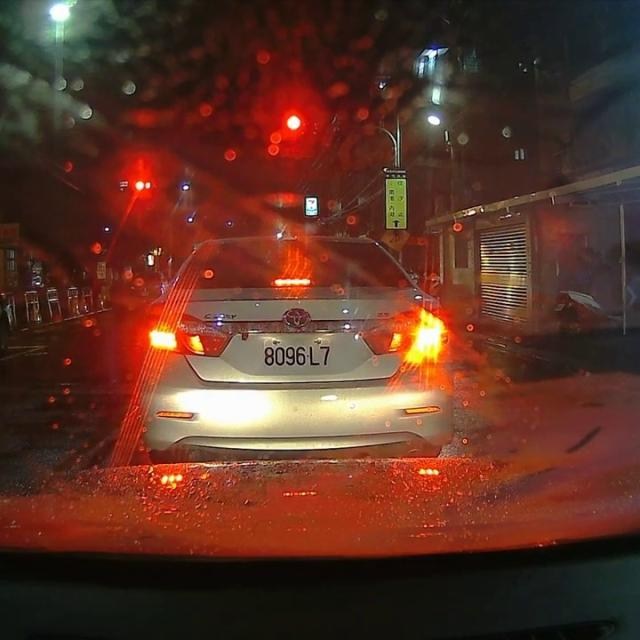Car: (139, 232, 456, 455)
